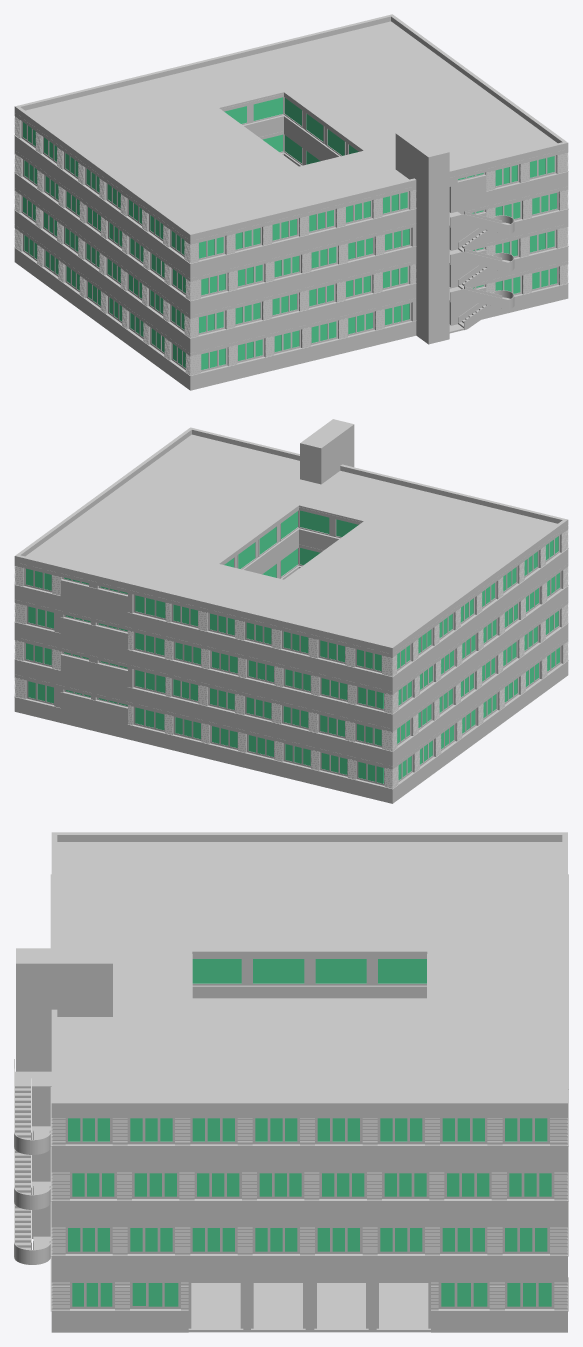
The model's file is A-BuildingWorkInProgress.fbx.
The picture shows the model from 3 angles, top to bottom: view 1: azimuth 30°, elevation 25°; view 2: azimuth 150°, elevation 25°; view 3: azimuth 270°, elevation 25°; orthographic projection. The views are drawn at different scales.
Visible parts, largest first — view 1: A-Building-workinprogress-stl, Cube.005, Cube.004, Cube.006, Cube.008, Cube.010; view 2: A-Building-workinprogress-stl, Cube.003, Cube.004, Cube.008, Cube.009; view 3: A-Building-workinprogress-stl, Cube.002, Cube.007, Cube.001, Cube.
Part boxes in pixels (box(x1,y1,x2,y2)): A-Building-workinprogress-stl: box(14, 14, 568, 390); Cube.005: box(199, 192, 409, 369); Cube.004: box(23, 122, 185, 367); Cube.006: box(458, 156, 556, 293); Cube.008: box(284, 98, 358, 164); Cube.010: box(224, 97, 282, 151); A-Building-workinprogress-stl: box(14, 419, 568, 803); Cube.003: box(26, 568, 383, 783); Cube.004: box(397, 536, 559, 779); Cube.008: box(224, 511, 297, 577); Cube.009: box(300, 510, 358, 565); A-Building-workinprogress-stl: box(14, 832, 568, 1332); Cube.002: box(68, 1118, 551, 1251); Cube.007: box(192, 959, 426, 983); Cube.001: box(441, 1283, 551, 1306); Cube: box(72, 1283, 178, 1306).
Bounding box in the file's own units: 3706 × 1750 × 3199.
